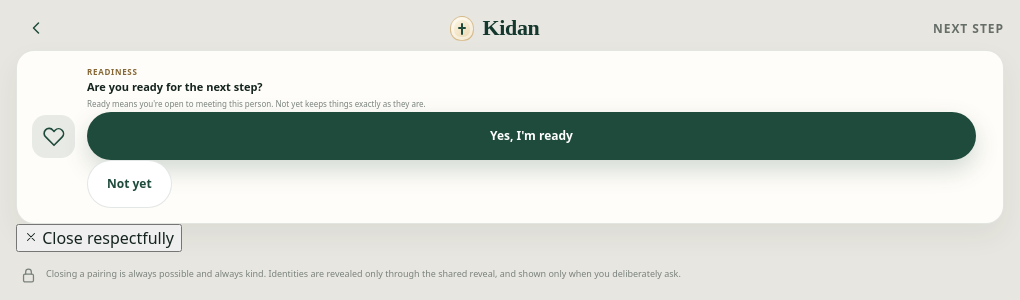
PairingScreen (Kidan Completion candidate surface) › renders the readiness loop from the journey snapshot and answers 'ready'
Expected: the text "Are you ready for the next step?" is shown, [87,79,263,94]
Click the button "Yes, I'm ready".
click(532, 136)  # box [87,112,976,160]
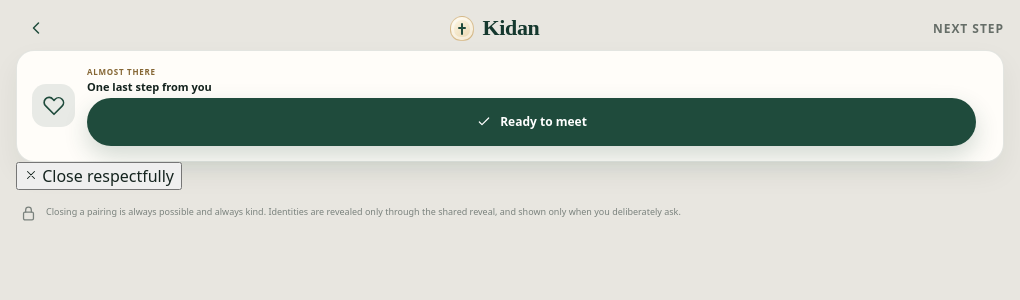
Expected: the text "One last step from you" is shown, [87,79,212,94]
